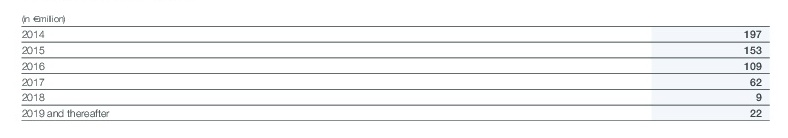table: (0, 0, 788, 138)
